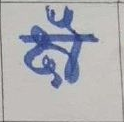au_matra: (52, 7, 85, 81)
